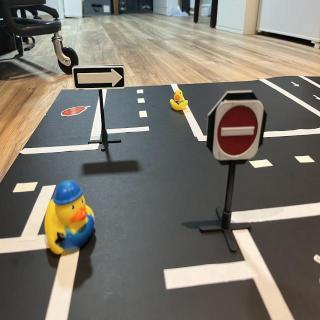duck_regular: (170, 88, 190, 112)
duck_specialty: (44, 181, 96, 259)
sign_noentry: (216, 102, 263, 163)
sign_oneway_right: (74, 65, 126, 91)
